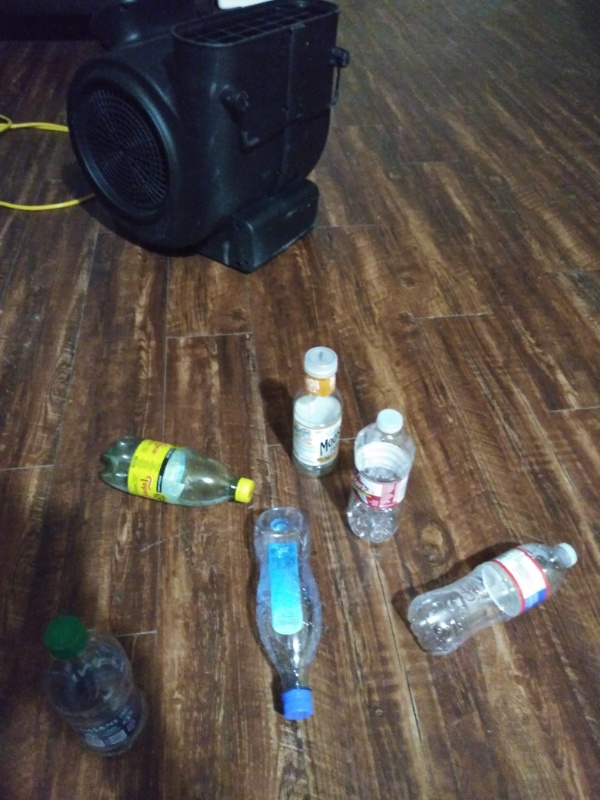bottle: (405, 537, 587, 659), (39, 612, 157, 759), (248, 504, 326, 720), (91, 430, 259, 514), (344, 406, 417, 549), (284, 346, 345, 480)
